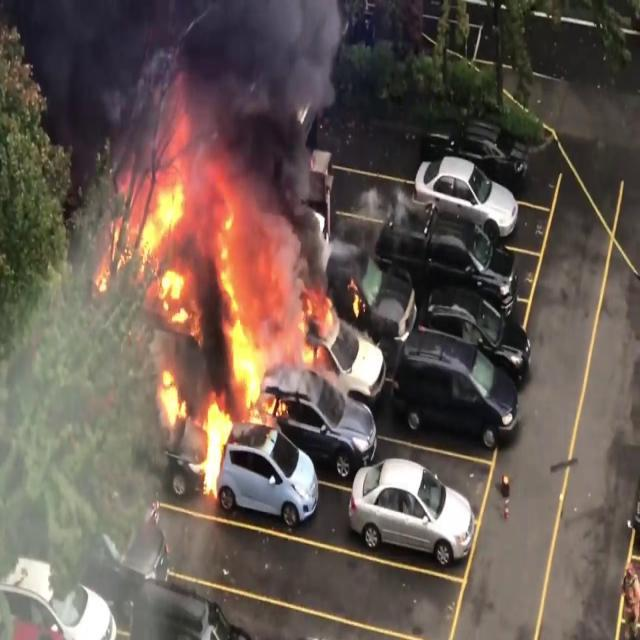Fire: (104, 131, 360, 449), (196, 394, 232, 498)
Smoke: (11, 0, 357, 240)
